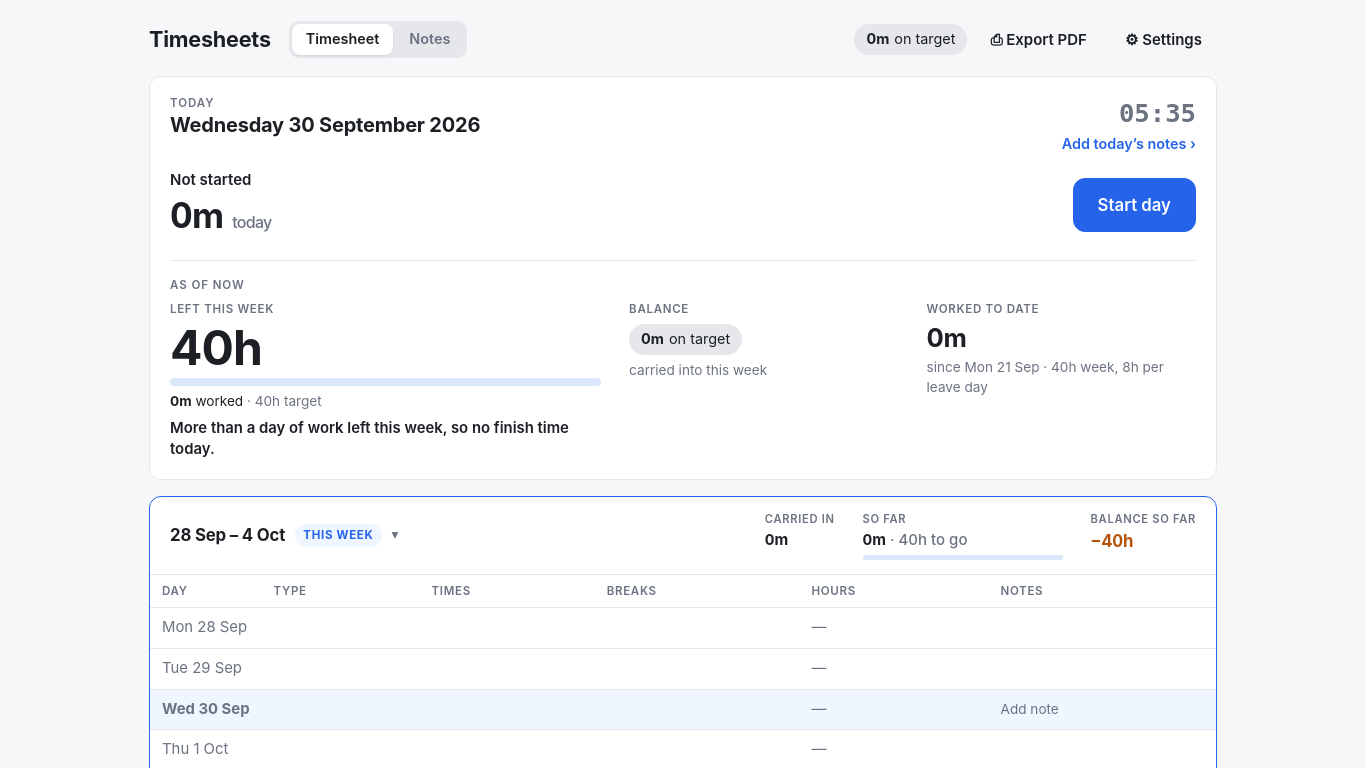
Scenario: App › posts the button action and replaces the view with the response
Click the button "Start day". click: {"x": 1134, "y": 205}
box: [1073,178,1196,232]
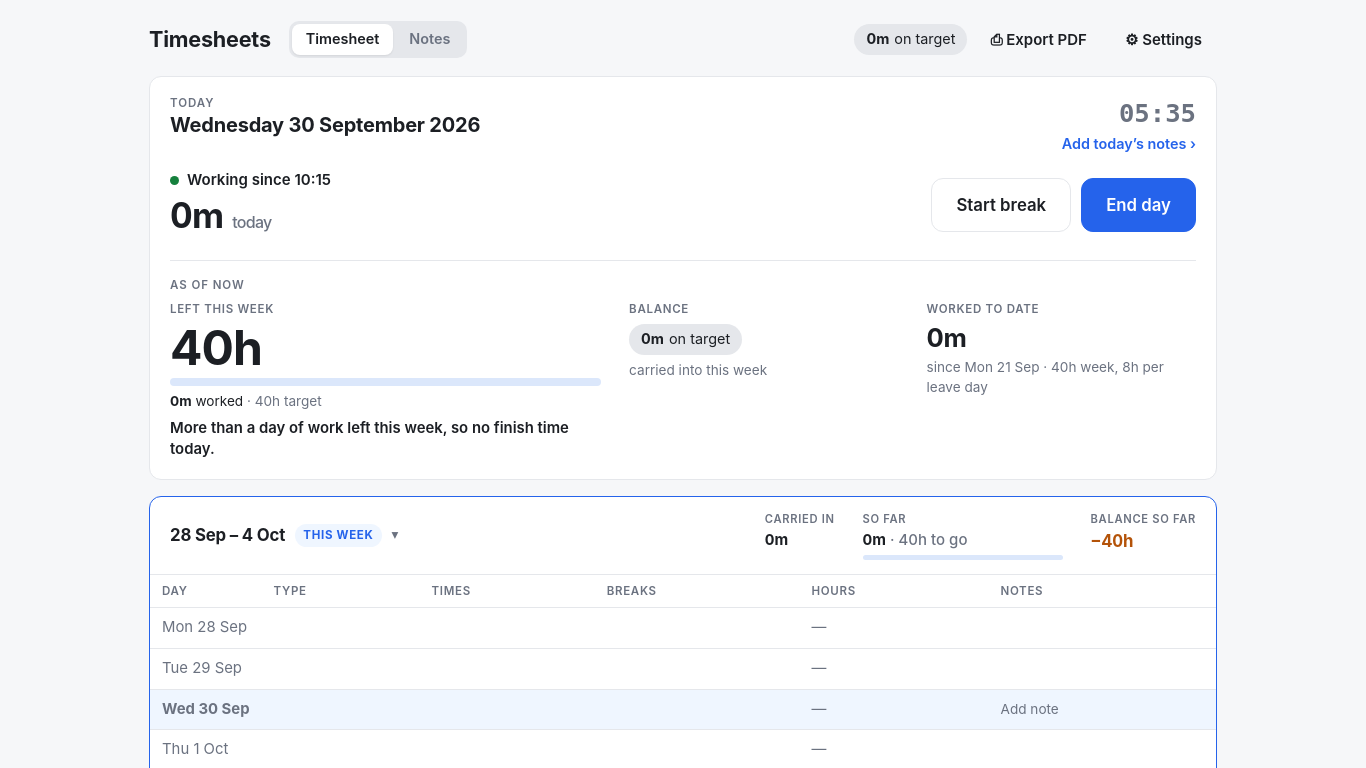
Result: the text "Working since 10:15" is shown at [170,169,331,190]
